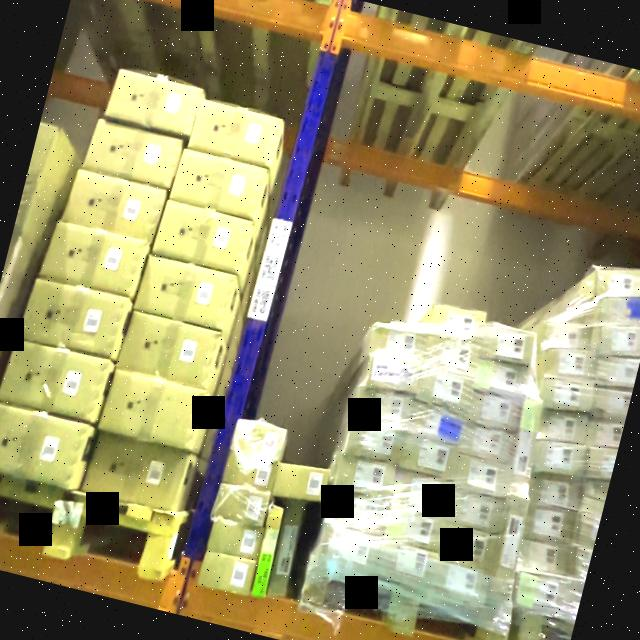box: (99, 369, 204, 452), (0, 340, 103, 420), (22, 279, 124, 359), (120, 313, 218, 389), (45, 224, 142, 296), (85, 437, 185, 505), (85, 117, 180, 187), (0, 405, 85, 480), (136, 258, 231, 324), (172, 150, 264, 218), (65, 172, 161, 236), (156, 202, 246, 270), (108, 69, 200, 133), (192, 100, 279, 164), (248, 506, 286, 598), (432, 526, 502, 574), (442, 487, 507, 533), (388, 474, 447, 520), (404, 402, 462, 447), (335, 458, 392, 502), (342, 420, 398, 464), (316, 527, 374, 569), (200, 550, 254, 594), (380, 507, 436, 549), (231, 420, 288, 461), (353, 388, 407, 431), (398, 438, 452, 481), (212, 487, 268, 528), (222, 453, 276, 495), (272, 463, 326, 505), (449, 454, 508, 492), (418, 366, 470, 409), (372, 316, 426, 356), (474, 354, 528, 394), (428, 565, 488, 601), (458, 421, 514, 459), (465, 390, 520, 428), (366, 357, 418, 397), (326, 498, 378, 538), (208, 523, 262, 560), (480, 322, 532, 360), (377, 546, 428, 584), (432, 304, 486, 339), (424, 337, 476, 372)
